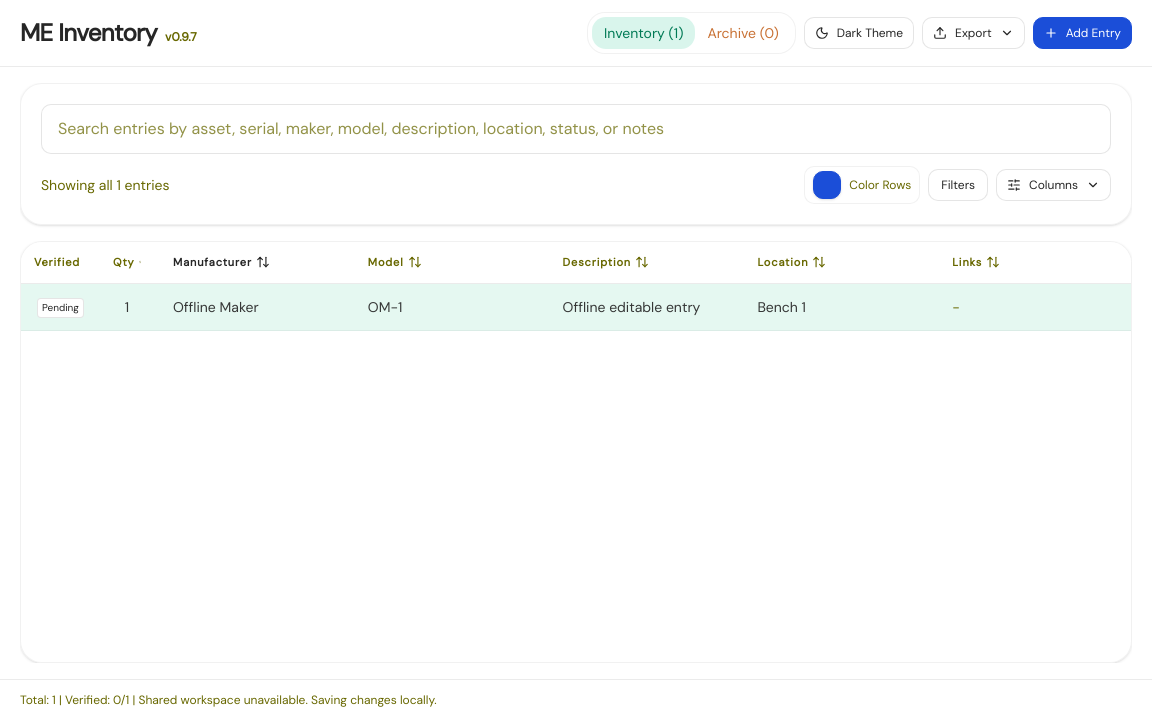
InventoryShell shell › keeps desktop editing enabled when mutations are local-only
expect the text "Shared workspace unavailable. Saving changes locally." is shown: met, box [20,692,437,708]
Click the button "Add Entry". click: {"x": 1082, "y": 33}
box: [1033,17,1132,49]
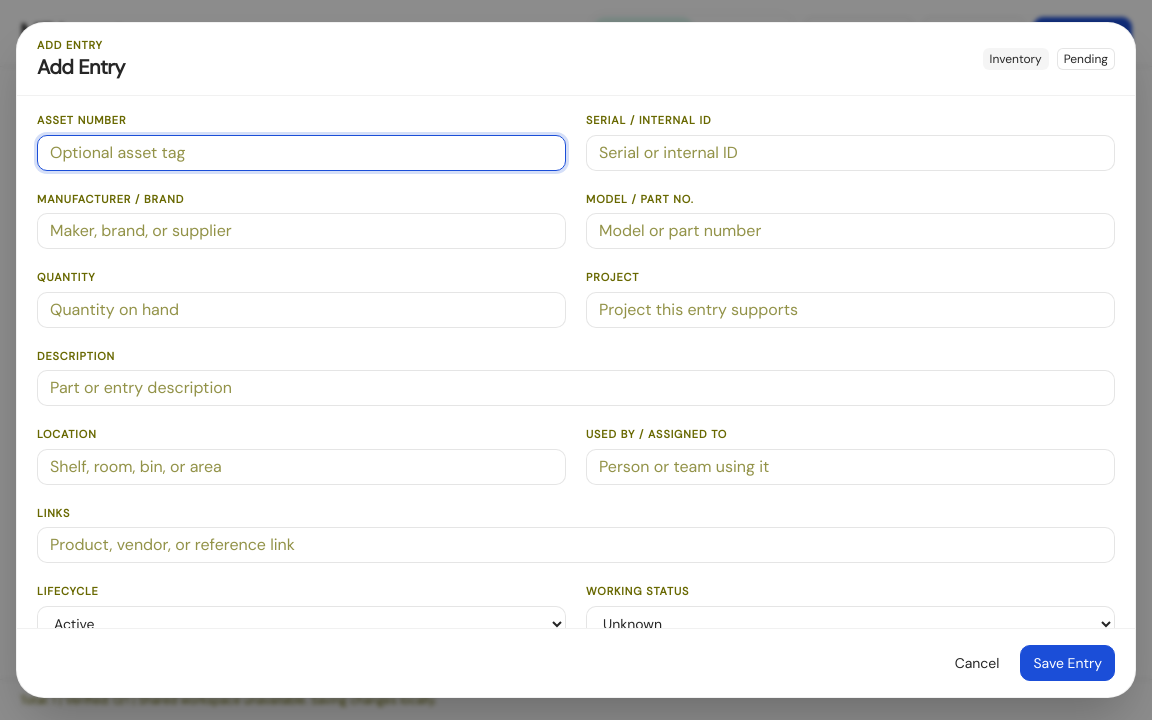
Type "Local Maker" into the field labelled "Manufacturer / Brand". click: {"x": 302, "y": 231}
box: [38,214,565,248]
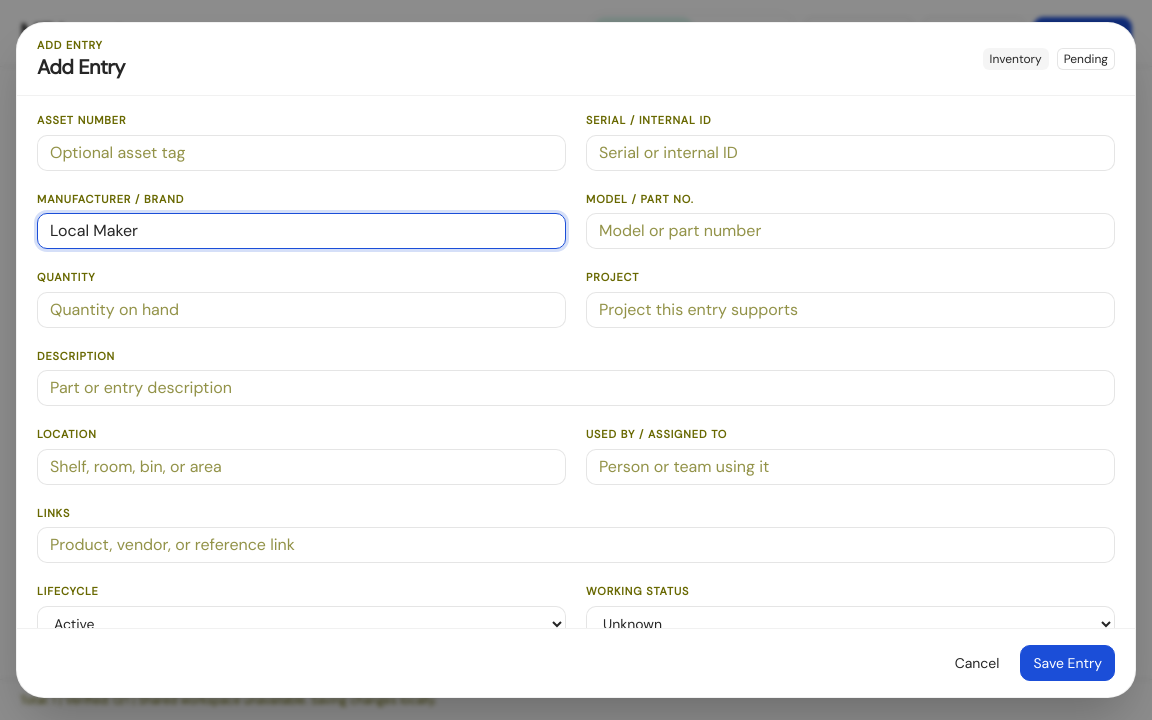
Type "Local-only saved entry" into the field labelled "Description". click: {"x": 576, "y": 388}
box: [38,371,1114,405]
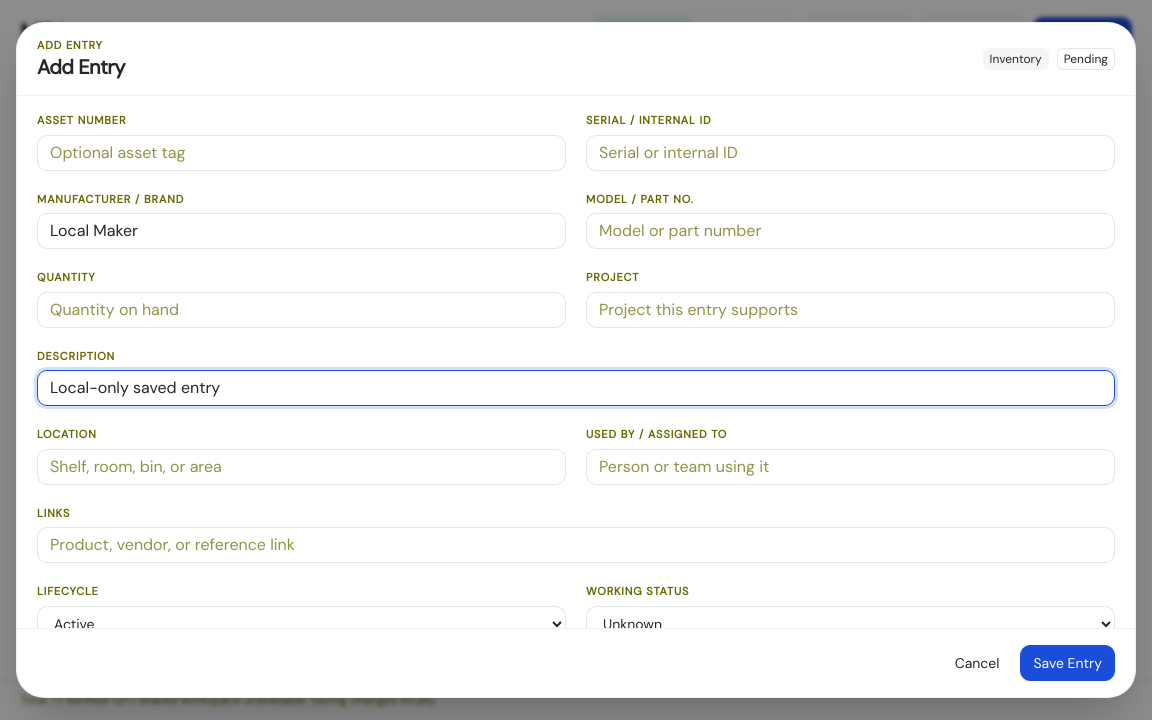
Click the button "Save Entry". click: {"x": 1068, "y": 663}
box: [1020,645,1115,681]
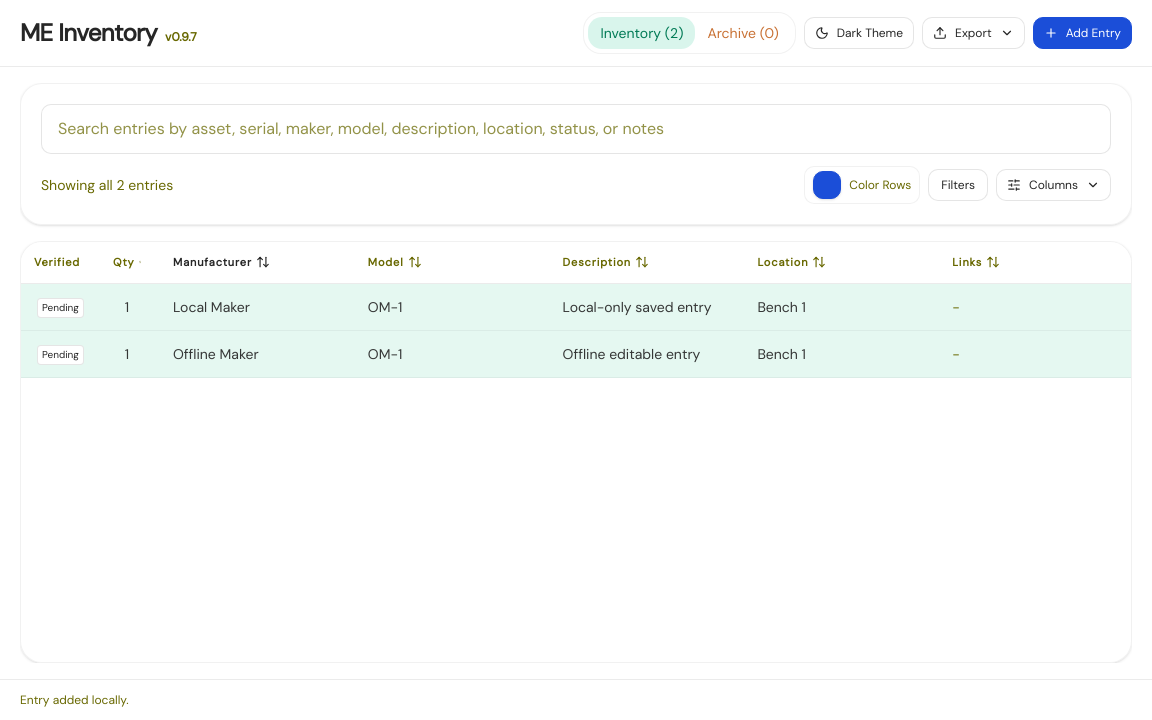
expect the text "Entry added locally." is shown: met, box [0,679,1151,719]
Click the button with aria-label "Toggle verified for Local-only saved entry". click: {"x": 60, "y": 308}
box: [37,298,84,318]
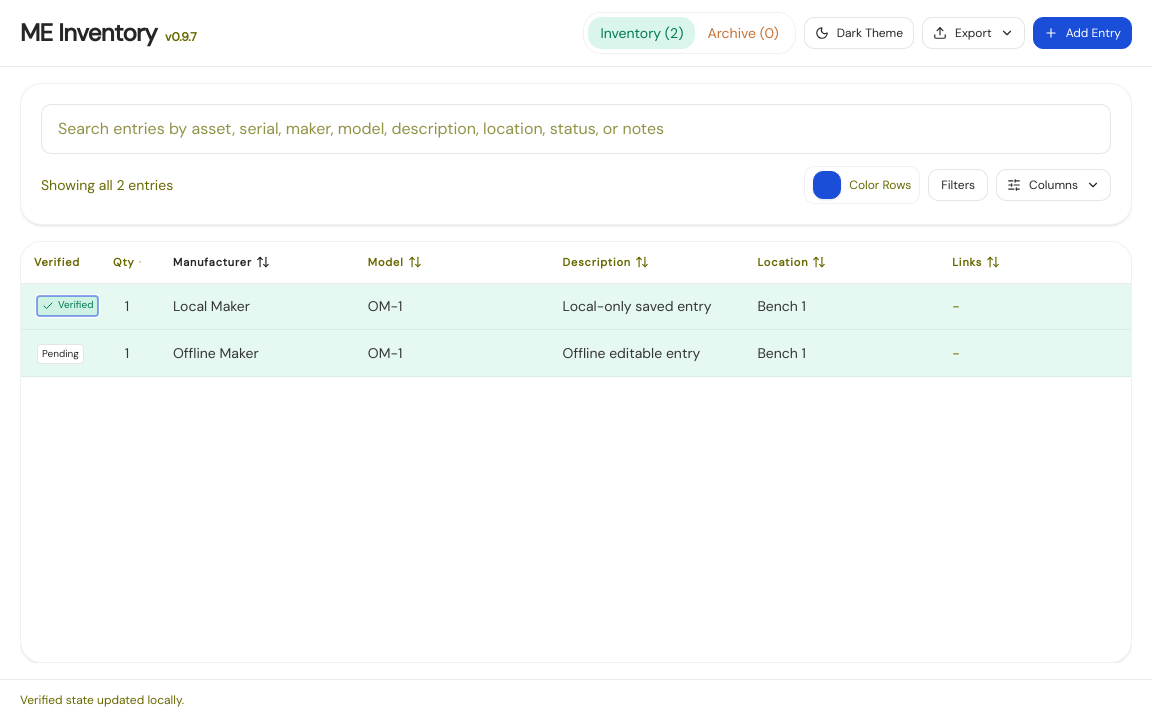
expect the text "Verified state updated locally." is shown: met, box [0,679,1151,719]
